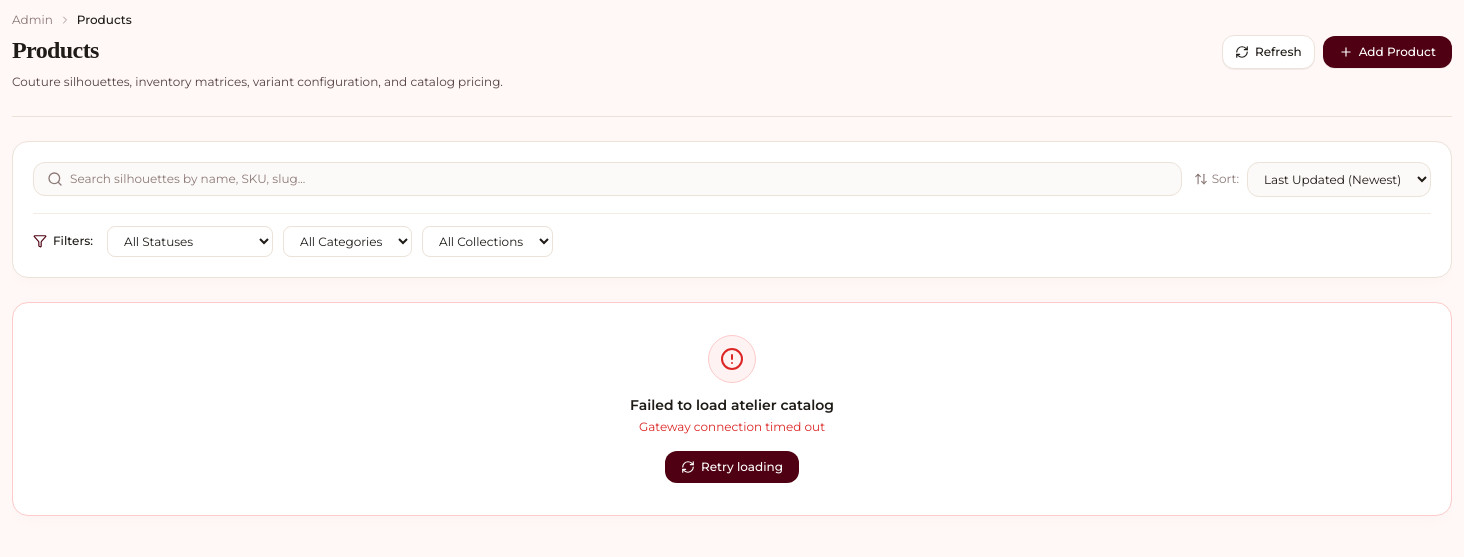
Test: AdminProductsClient › renders error state when API request fails and provides working retry button
Expected: the heading "Failed to load atelier catalog" is shown, [630,396,834,414]
Expected: the text "Gateway connection timed out" is shown, [639,418,825,434]
Click the button "Retry loading" at (732, 466), box [665,450,799,482]
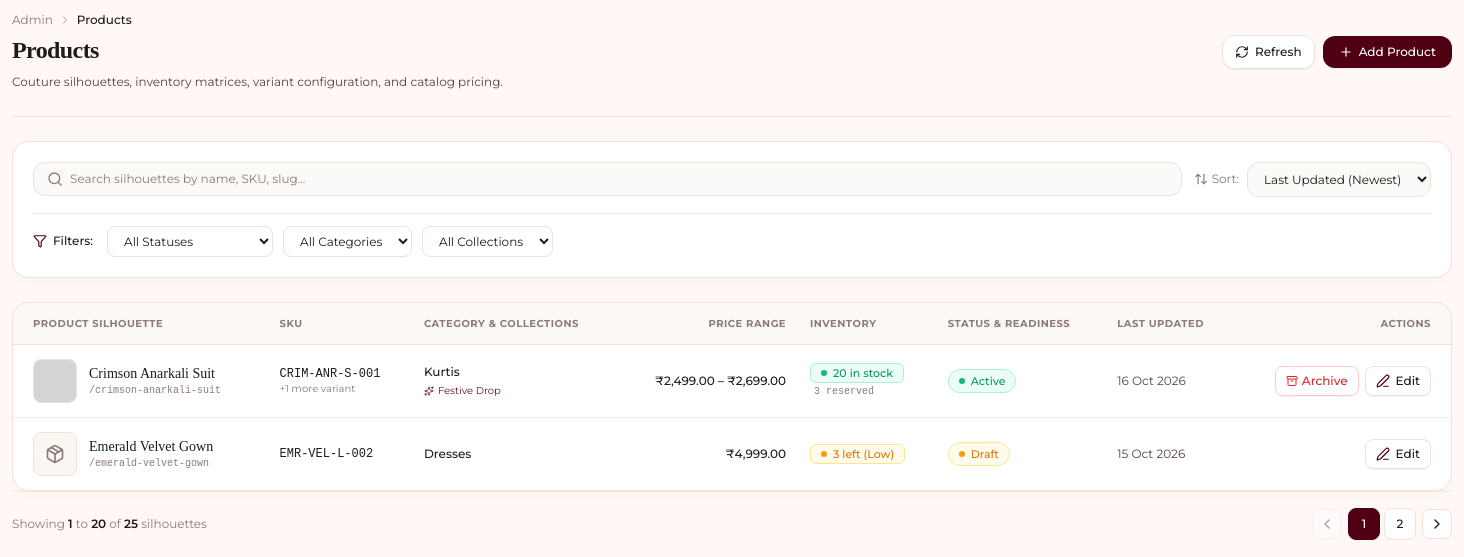
Expected: the text "Crimson Anarkali Suit" is shown, [89,364,221,384]
